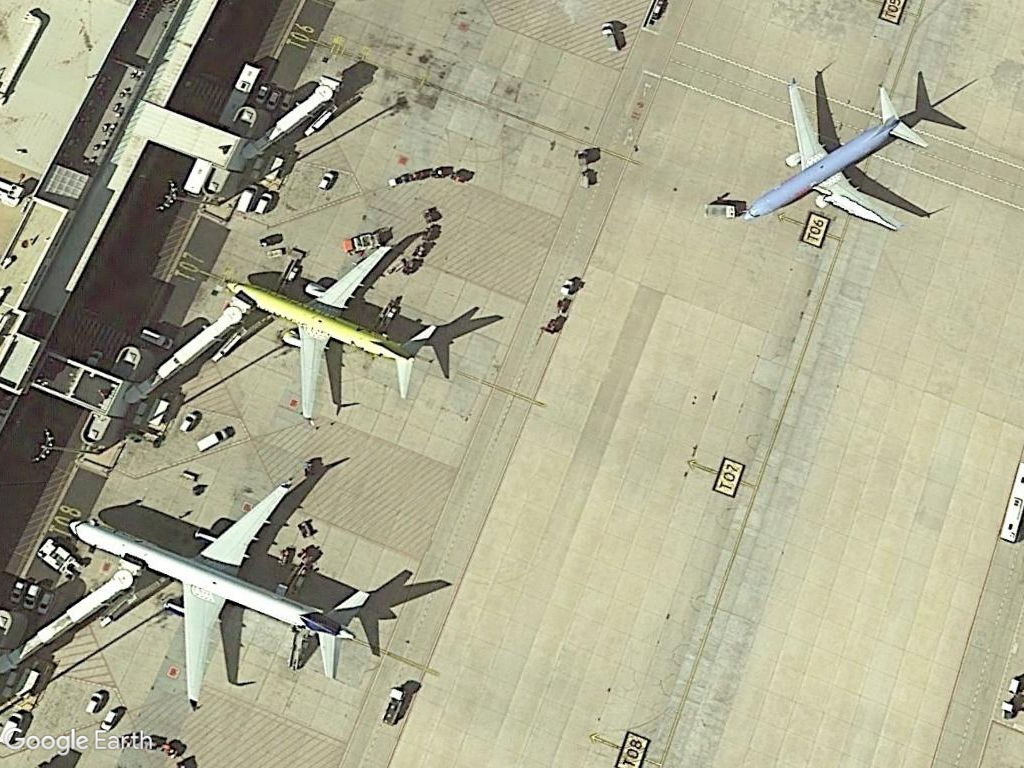airliner: (67, 482, 376, 716), (219, 235, 449, 428), (737, 77, 938, 248)
stairtruck: (381, 684, 408, 731)
